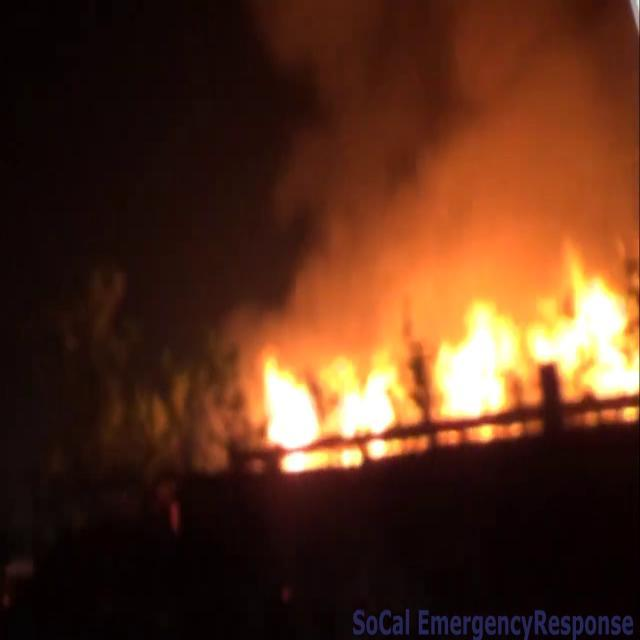Fire: (243, 250, 640, 460)
Smoke: (225, 0, 640, 286)
